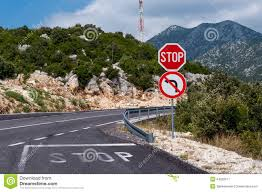stop_sign: (157, 41, 188, 73)
